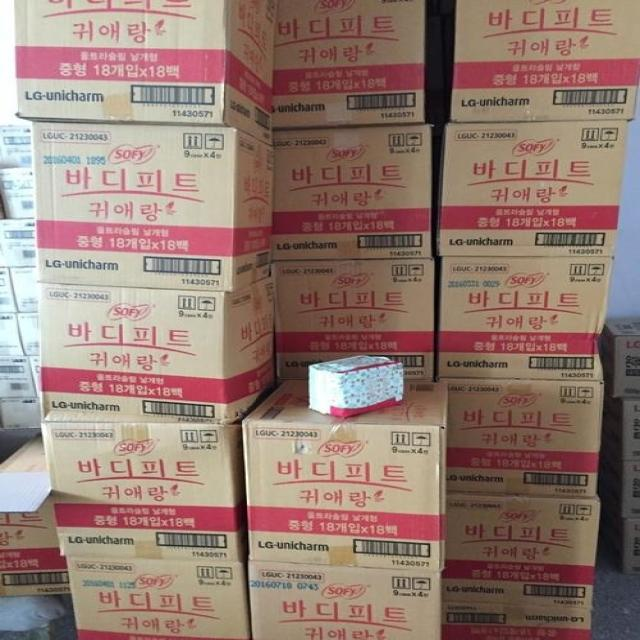box: (39, 383, 284, 562), (32, 121, 275, 292), (242, 377, 449, 571), (13, 0, 279, 148), (39, 279, 277, 427), (441, 121, 629, 256), (448, 3, 638, 121), (273, 123, 436, 260), (439, 258, 613, 384), (273, 258, 439, 381), (275, 0, 428, 129), (441, 376, 602, 498), (444, 493, 600, 611), (248, 559, 442, 639), (66, 555, 252, 637), (0, 427, 75, 597), (307, 353, 403, 419), (443, 600, 593, 639), (595, 442, 639, 518), (600, 318, 639, 397), (602, 500, 639, 576), (603, 393, 639, 459), (0, 169, 41, 220), (0, 215, 37, 268), (1, 126, 35, 171), (2, 357, 36, 398), (0, 311, 26, 360), (3, 397, 39, 429), (14, 267, 39, 313), (19, 311, 39, 360), (0, 268, 19, 314), (29, 358, 42, 397)
